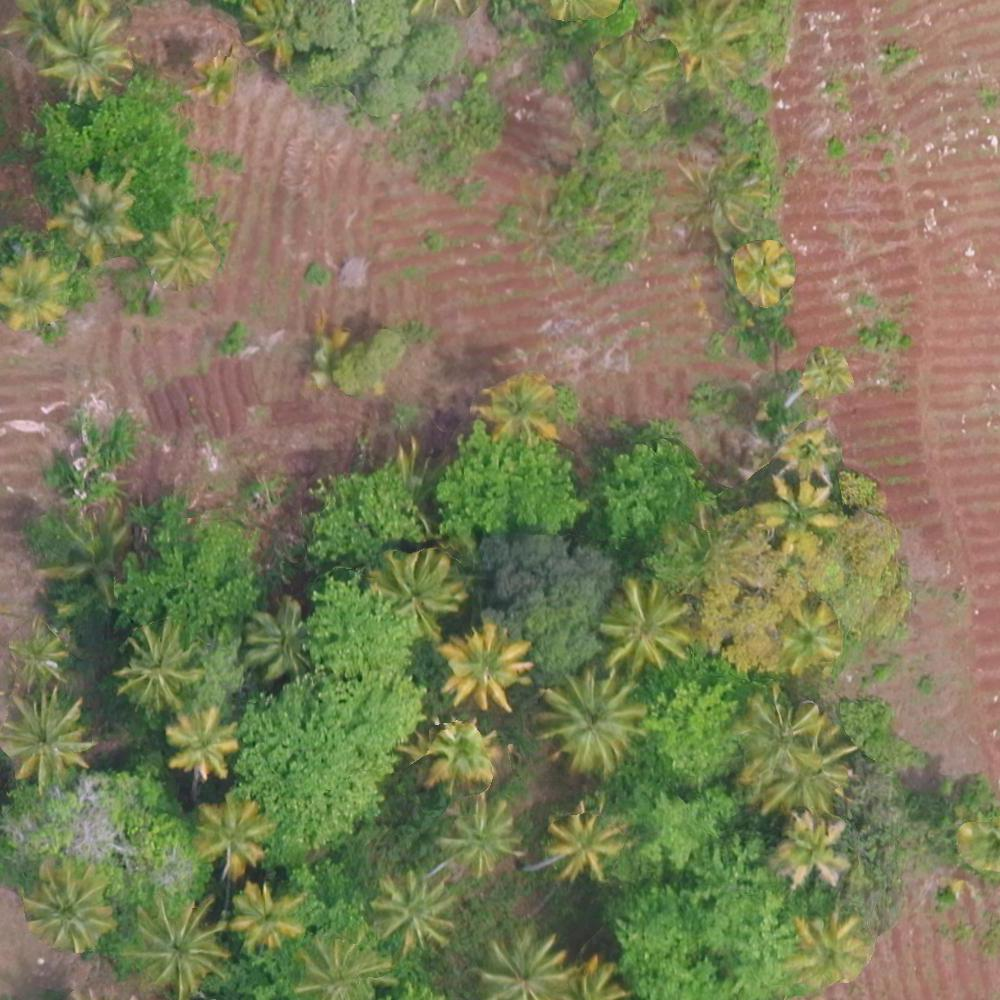Palm: (129, 891, 226, 992), (546, 671, 642, 772), (37, 8, 136, 98), (595, 576, 690, 667), (2, 695, 96, 786), (24, 860, 108, 952), (443, 623, 525, 713), (51, 173, 144, 251), (375, 548, 457, 629), (441, 796, 522, 876), (369, 875, 449, 955), (672, 4, 753, 83), (477, 934, 573, 1000), (1, 250, 75, 334), (757, 479, 837, 555), (117, 626, 192, 707), (545, 807, 626, 881), (194, 800, 269, 879), (238, 598, 312, 678), (295, 939, 393, 999), (786, 914, 864, 989), (424, 718, 502, 791), (591, 33, 667, 107), (769, 599, 844, 673), (775, 816, 851, 886), (478, 375, 558, 441), (228, 882, 301, 954), (160, 710, 237, 777), (149, 217, 217, 283), (732, 244, 792, 307), (11, 625, 69, 682)
